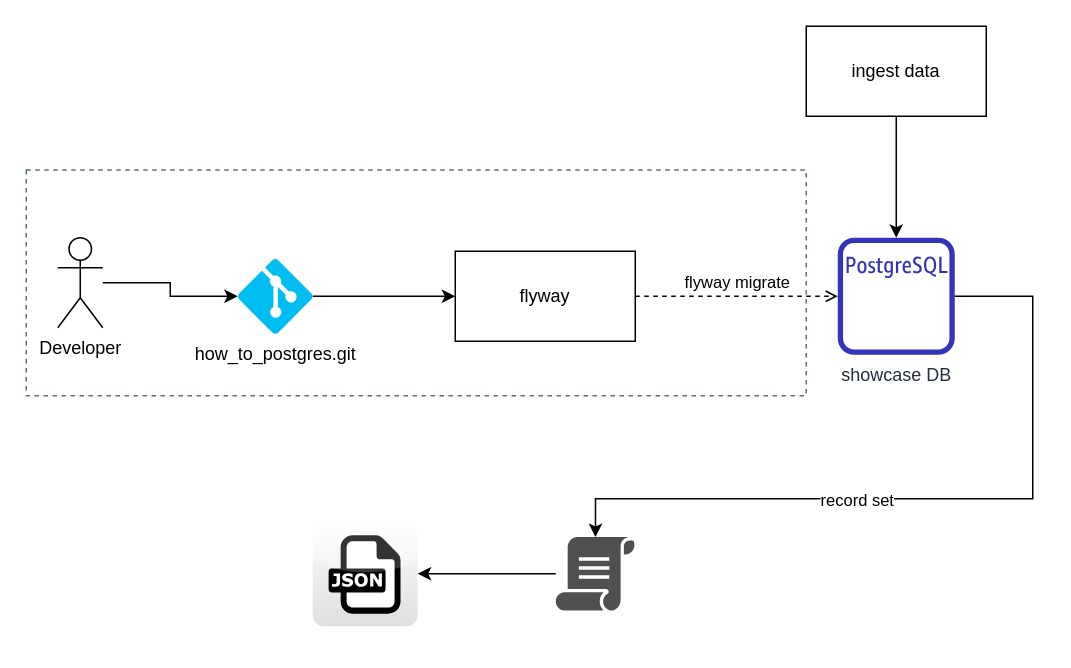
Some shapes in this 1071 by 668 pixel diagram are drawn without their labels. The box of each missing label's shape, as (x1, y1, x2, y2) in pixels:
Database Development & Deployment: (25, 168, 806, 396)
get_records.py: (555, 536, 634, 610)
